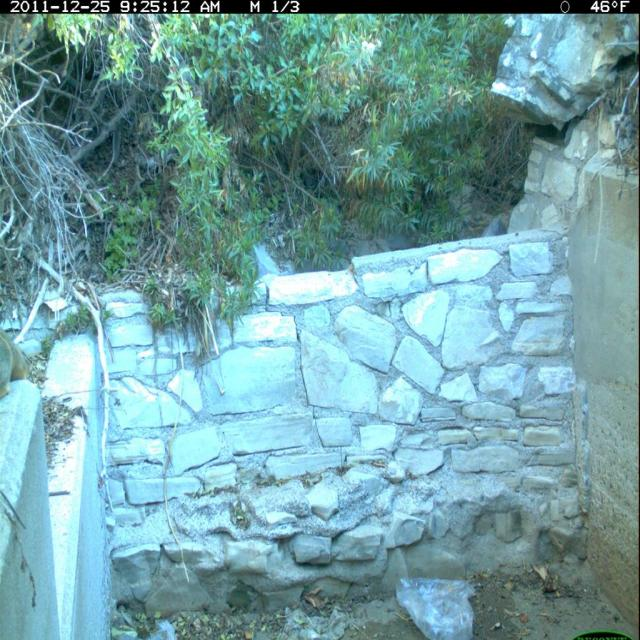squirrel: (1, 327, 41, 409)
